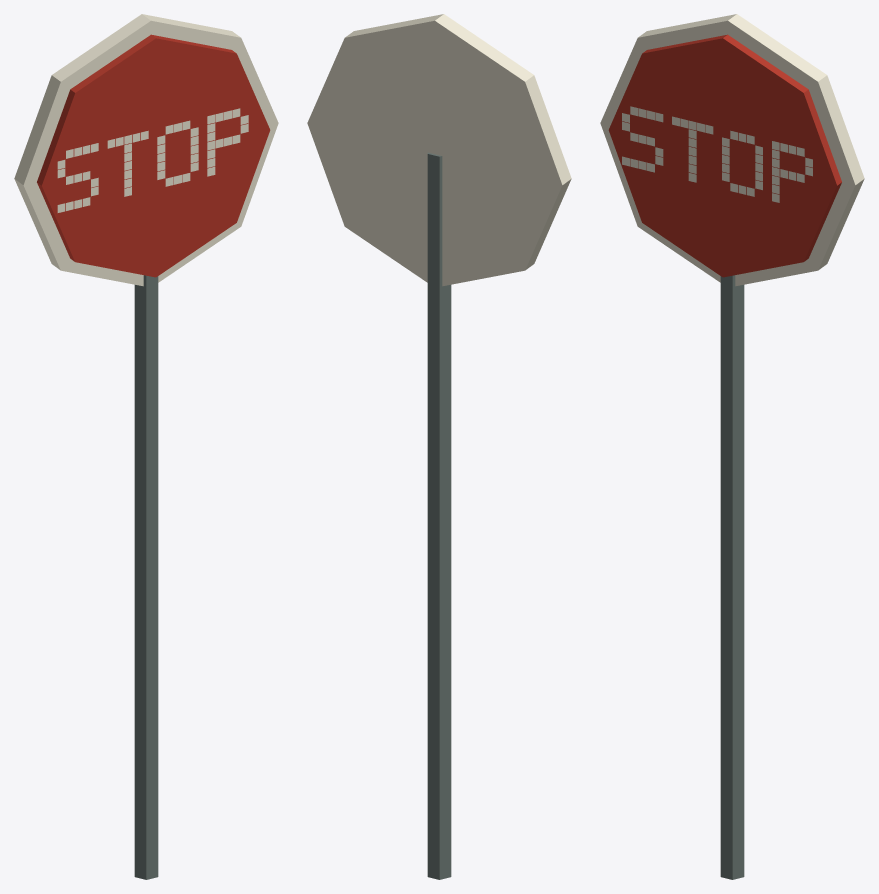
Rendered from StopSign.obj.
3 renders of one model, left to right at view 1: azimuth 30°, elevation 25°; view 2: azimuth 150°, elevation 25°; view 3: azimuth 330°, elevation 25°, orthographic.
Parts seen in each view (by area): view 1: StopSign; view 2: StopSign; view 3: StopSign.
Boxes of the visible parts, x1=… form: StopSign: x1=14, y1=14, x2=278, y2=879; StopSign: x1=307, y1=14, x2=571, y2=879; StopSign: x1=600, y1=14, x2=864, y2=879.
Bounding box in the file's own units: 0.96 × 3.08 × 0.109.
